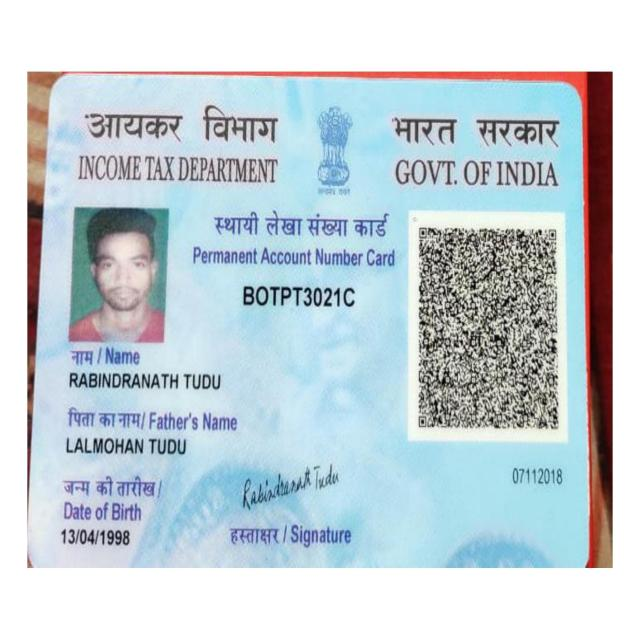pan_card: (50, 95, 580, 561)
